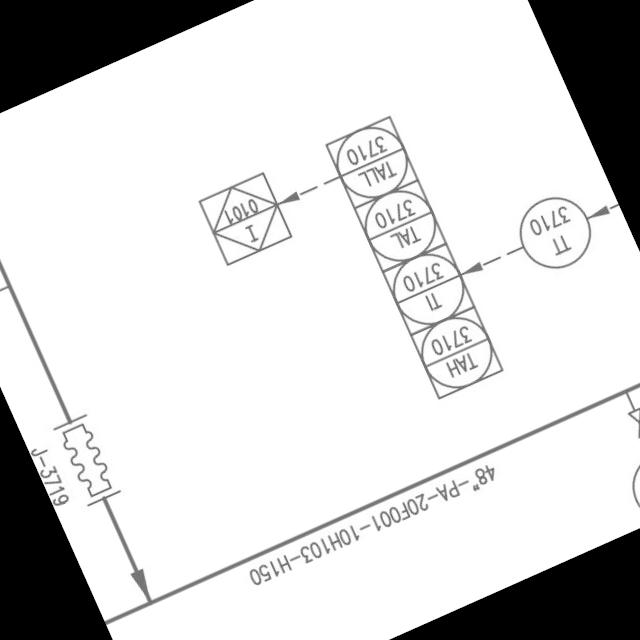EJ: (46, 407, 125, 512)
GV: (620, 401, 640, 445)
